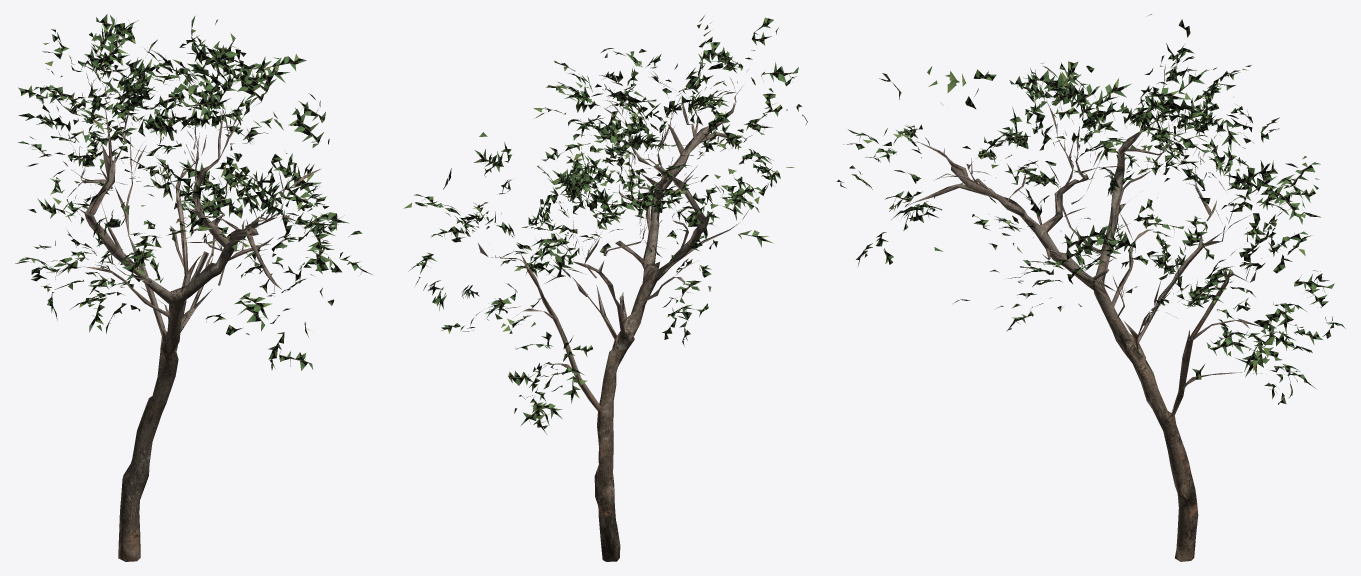
Rendered from tree_small_02_far.glb.
The picture shows the model from 3 angles, left to right: view 1: azimuth 30°, elevation 25°; view 2: azimuth 150°, elevation 25°; view 3: azimuth 270°, elevation 25°; orthographic projection. The views are drawn at different scales.
Visible parts, largest first — view 1: tree_small_02_LOD0; view 2: tree_small_02_LOD0; view 3: tree_small_02_LOD0.
Boxes of the visible parts, bbox=[...] form: tree_small_02_LOD0: bbox=[15, 14, 373, 561]; tree_small_02_LOD0: bbox=[403, 15, 807, 561]; tree_small_02_LOD0: bbox=[836, 14, 1345, 561].
Size of the model in its own units: 2.73 by 4.56 by 4.17.
Materials: 3 (3 with a texture image).
